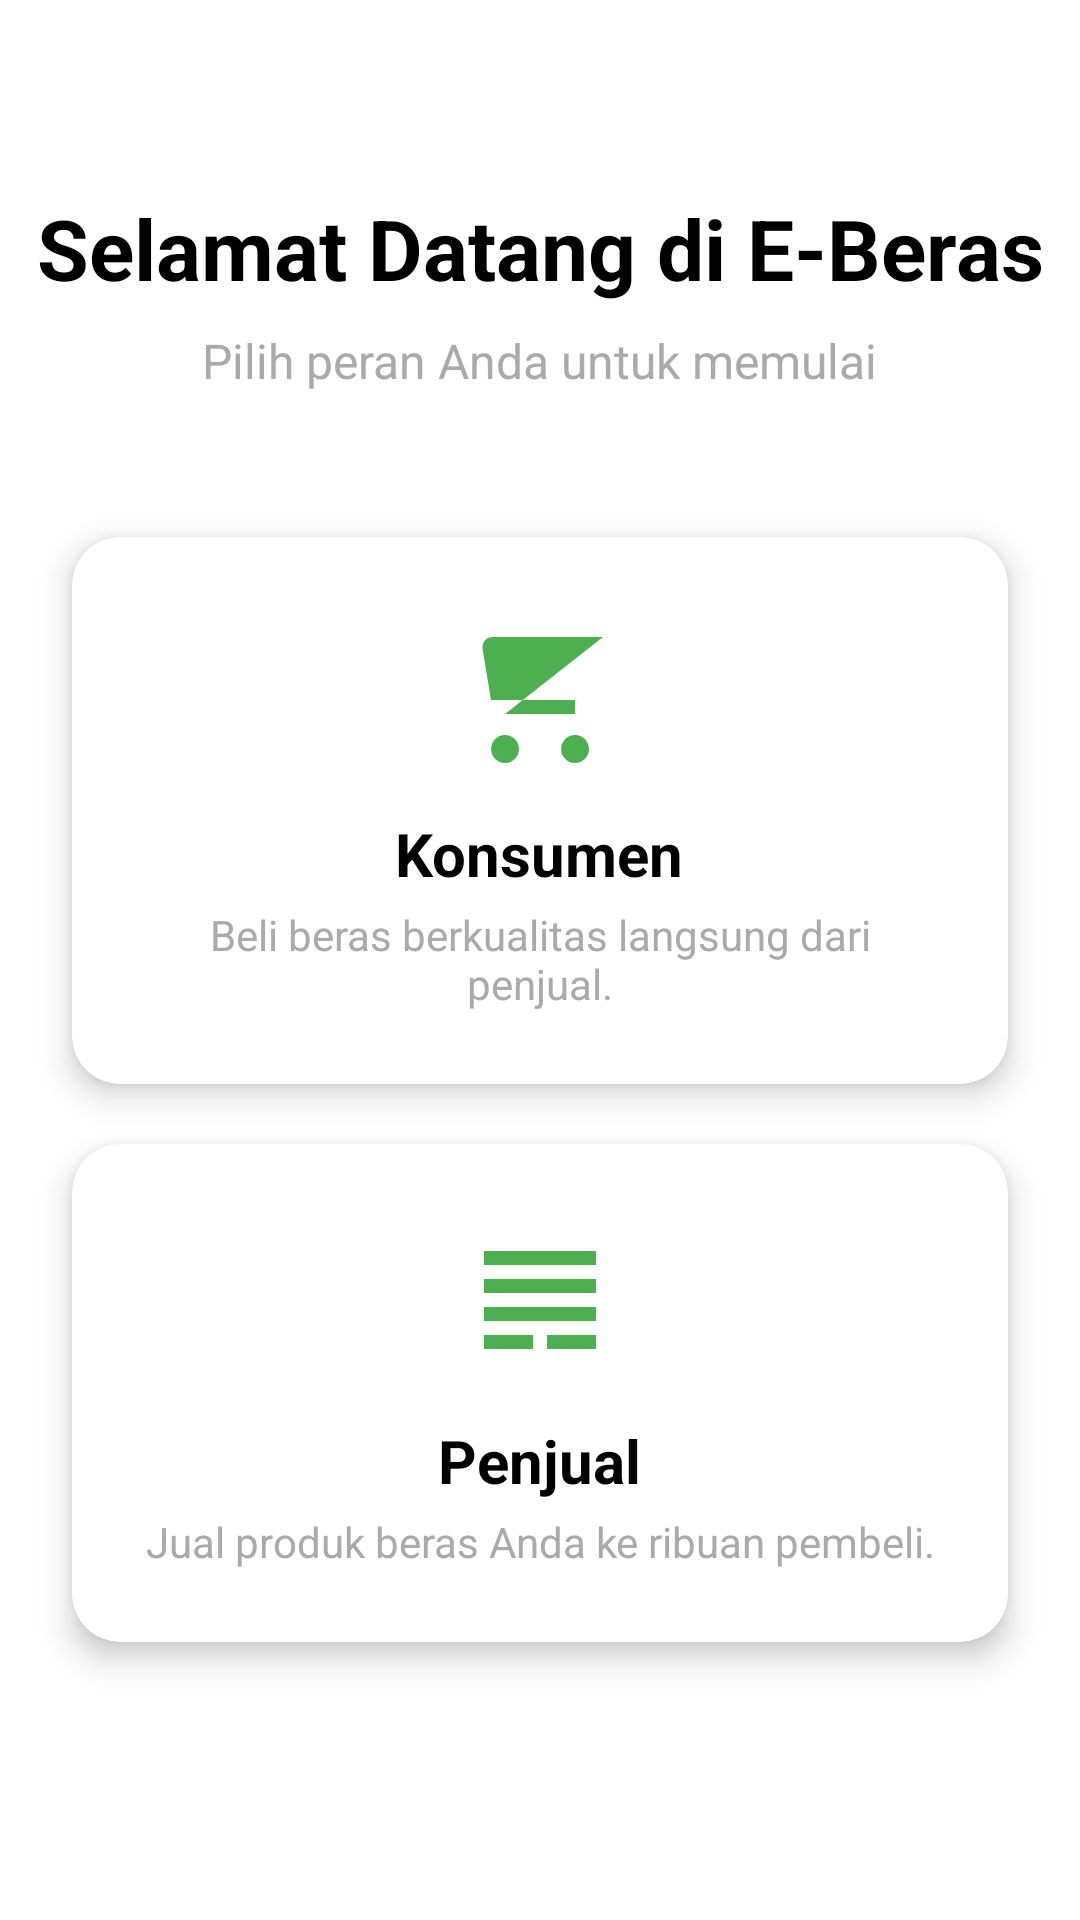

Where icons sit on this 1080x1920 app screen, as (x1, y1, x2, y2):
Ikon Keranjang Belanja: (482, 637, 603, 763)
